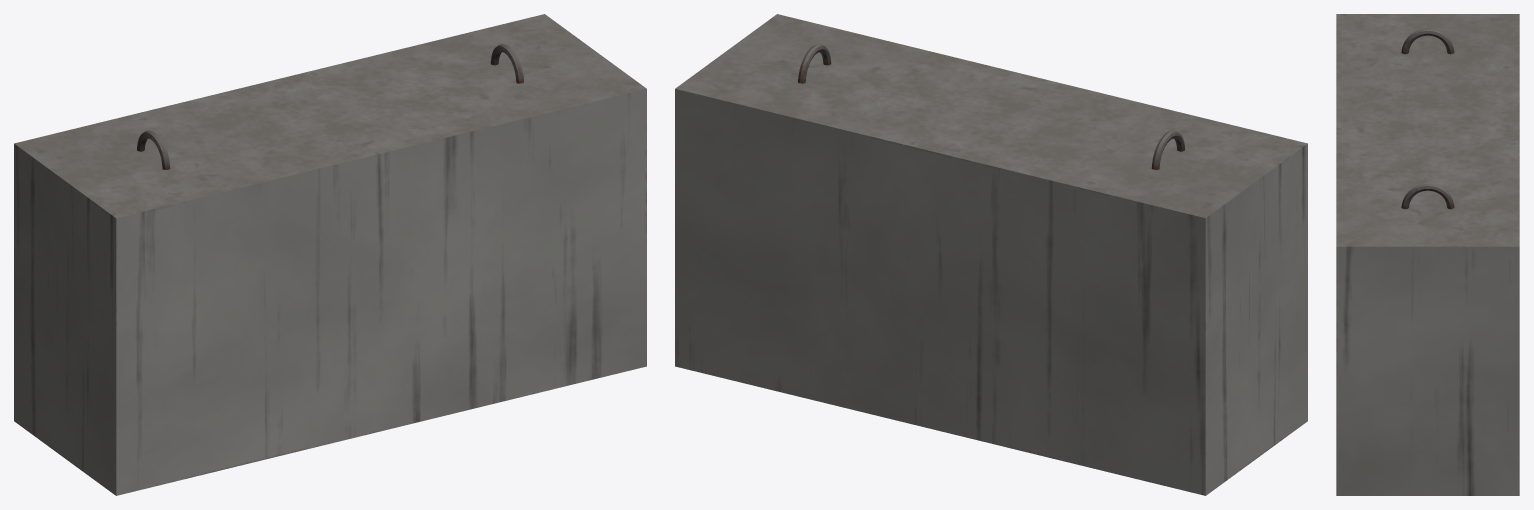
Rendered from SM_ConcreteBlock_FBS.fbx.
3 views of the same model, side by side, from view 1: azimuth 30°, elevation 25°; view 2: azimuth 150°, elevation 25°; view 3: azimuth 270°, elevation 25° (orthographic). The views are drawn at different scales.
Visible parts, largest first — view 1: SM_ConcreteBlock_FBS; view 2: SM_ConcreteBlock_FBS; view 3: SM_ConcreteBlock_FBS.
Boxes of the visible parts, bbox=[...] form: SM_ConcreteBlock_FBS: bbox=[14, 14, 646, 495]; SM_ConcreteBlock_FBS: bbox=[675, 14, 1307, 495]; SM_ConcreteBlock_FBS: bbox=[1336, 14, 1519, 495].
Size of the model in its own units: 1.2 by 0.6574 by 0.4.
1 material, 1 textured.
